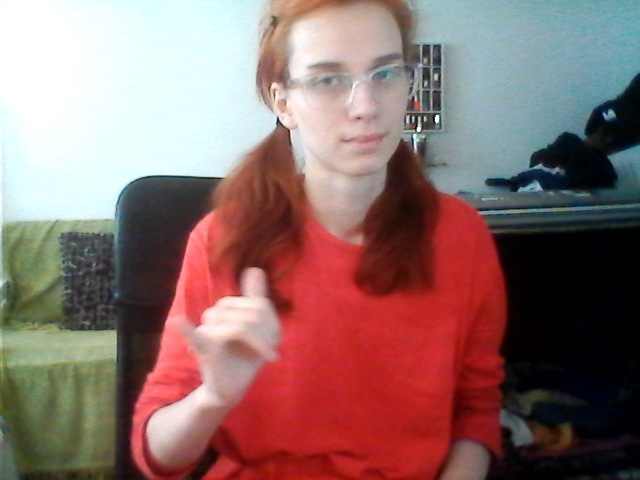ano: (161, 266, 290, 407)
